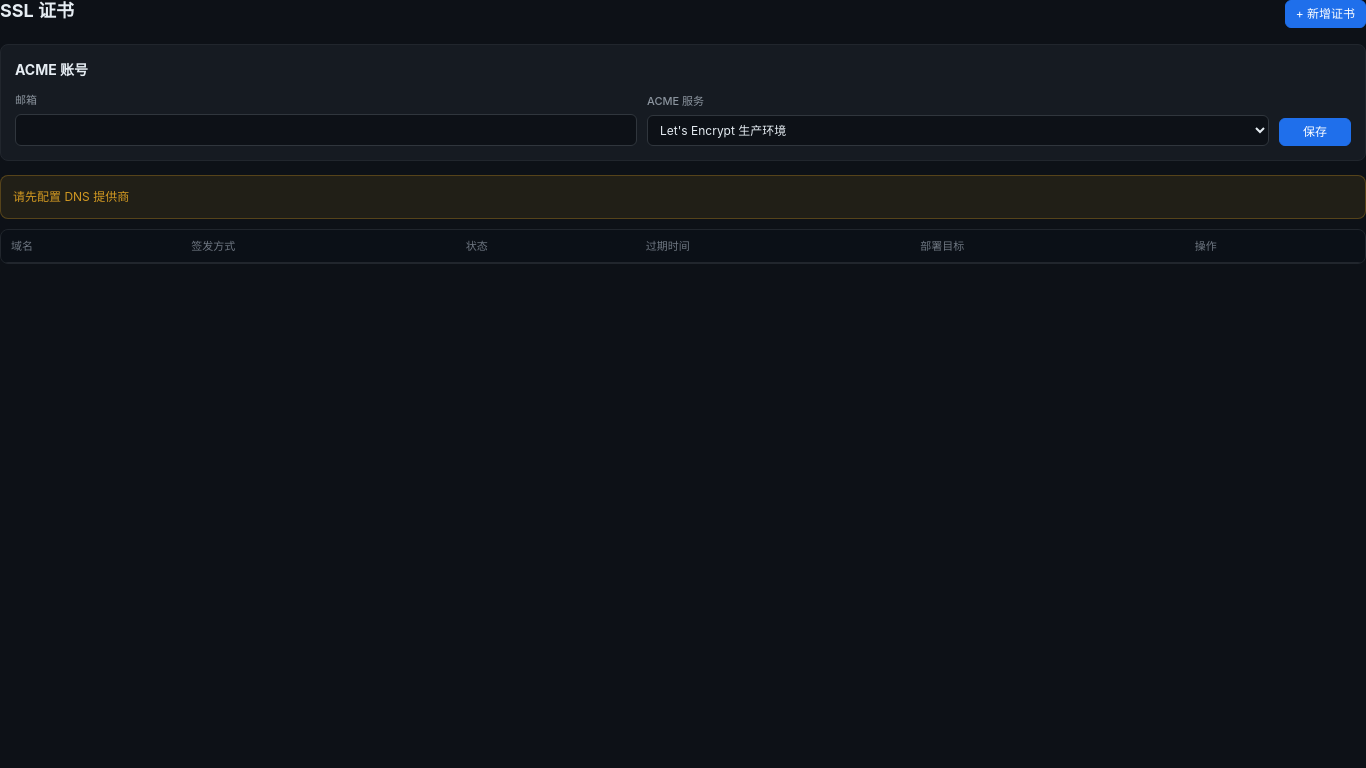
Test: CertificateTab › prompts users to configure DNS providers before creating ACME certificates
Click the button with test id "cert-add" at (1325,14), box [1285,0,1365,28]
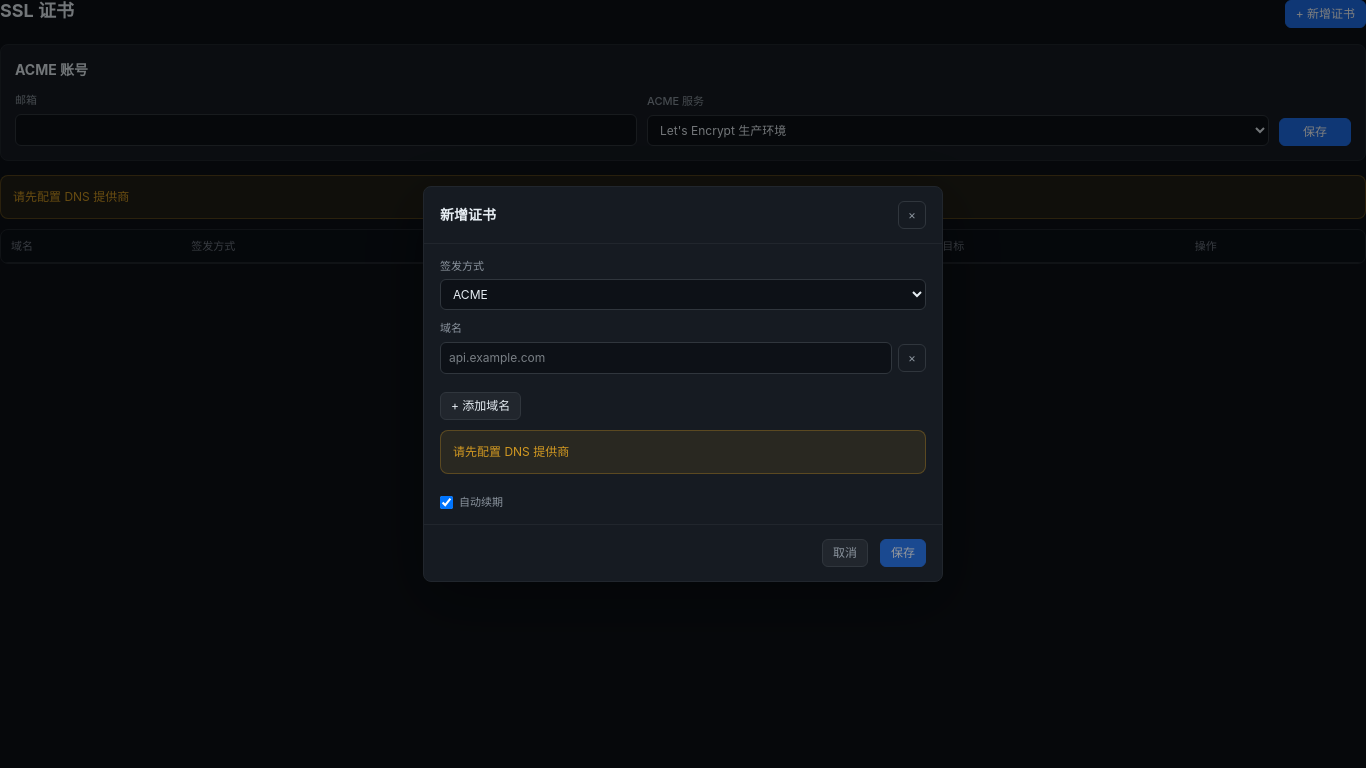
Check: the text with test id "cert-dns-empty" reads "请先配置 DNS 提供商", box [453,444,569,459]
Check: the button with test id "cert-submit" is disabled, box [880,539,926,567]
